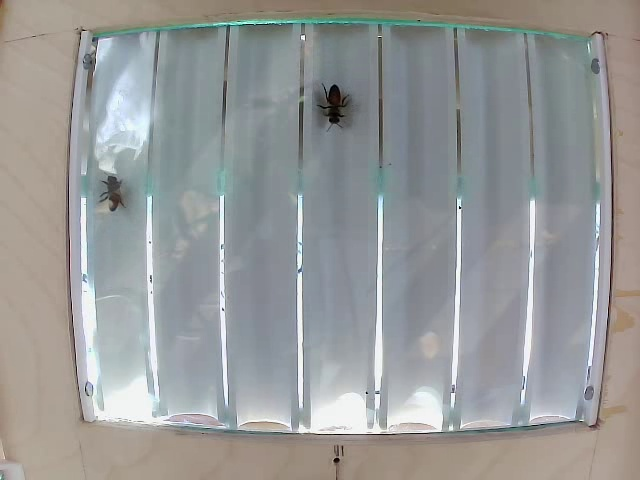bee: (310, 78, 350, 135), (94, 163, 131, 223)
